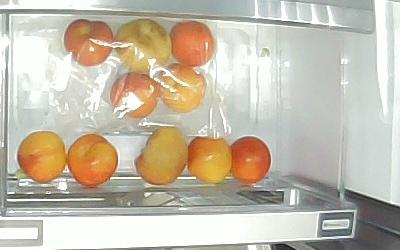prune: (135, 127, 189, 185), (68, 135, 118, 187), (18, 131, 66, 184), (188, 137, 232, 184), (229, 137, 272, 185)
prune_vinyl: (115, 19, 171, 72), (156, 64, 206, 113), (64, 20, 113, 66), (111, 73, 159, 119), (169, 21, 215, 66)
